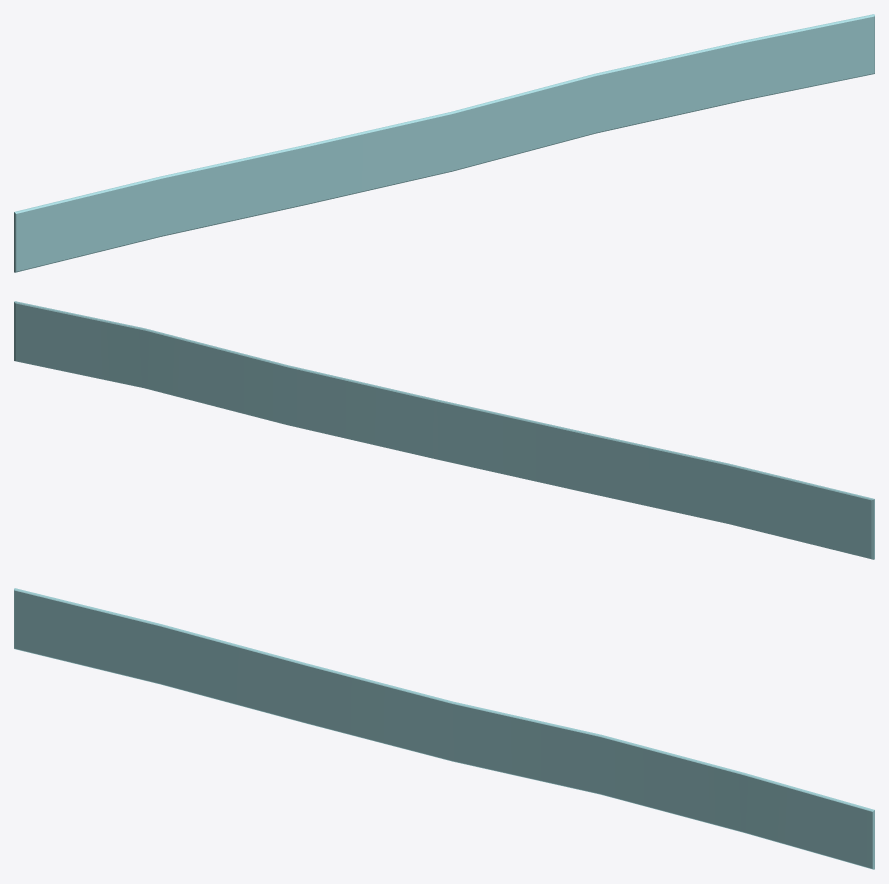
Rendered from Friday_CrimeSceneTape.fbx.
The picture shows the model from 3 angles, top to bottom: view 1: azimuth 30°, elevation 25°; view 2: azimuth 150°, elevation 25°; view 3: azimuth 330°, elevation 25°; orthographic projection.
Visible parts, largest first — view 1: Crime_Scene; view 2: Crime_Scene; view 3: Crime_Scene.
Part boxes in pixels (<box>): Crime_Scene: <box>14,14,874,272</box>; Crime_Scene: <box>14,301,874,559</box>; Crime_Scene: <box>14,588,874,869</box>.
Bounding box in the file's own units: 230 × 18.19 × 2.24.
